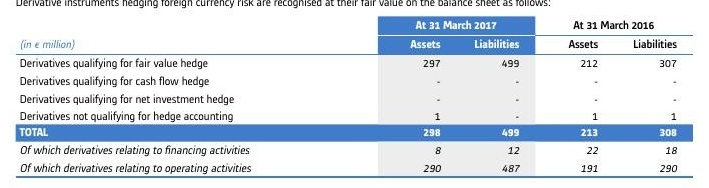table: (0, 0, 709, 188)
